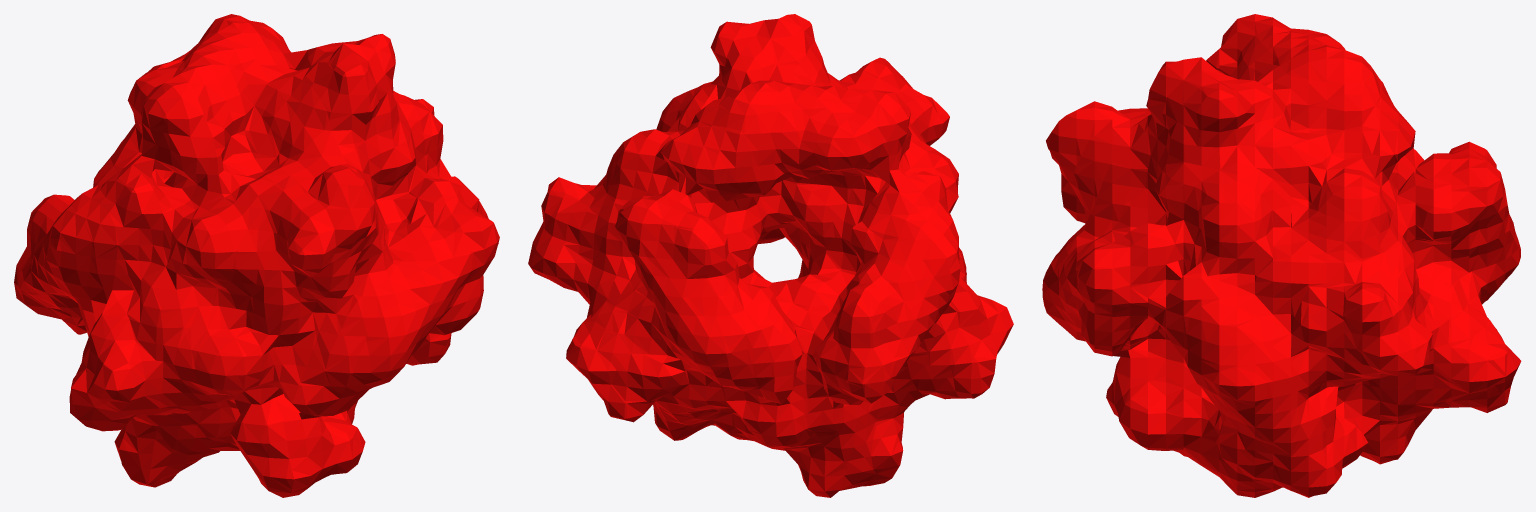
Rendered from amn_coarse.dae.
3 views of the same model, side by side, from view 1: azimuth 30°, elevation 25°; view 2: azimuth 150°, elevation 25°; view 3: azimuth 270°, elevation 25° (orthographic). The views are drawn at different scales.
Visible parts, largest first — view 1: amn; view 2: amn; view 3: amn.
Boxes of the visible parts, bbox=[...] form: amn: bbox=[14, 14, 499, 497]; amn: bbox=[528, 14, 1013, 497]; amn: bbox=[1042, 14, 1521, 497].
Bounding box in the file's own units: 122 × 119 × 117.
